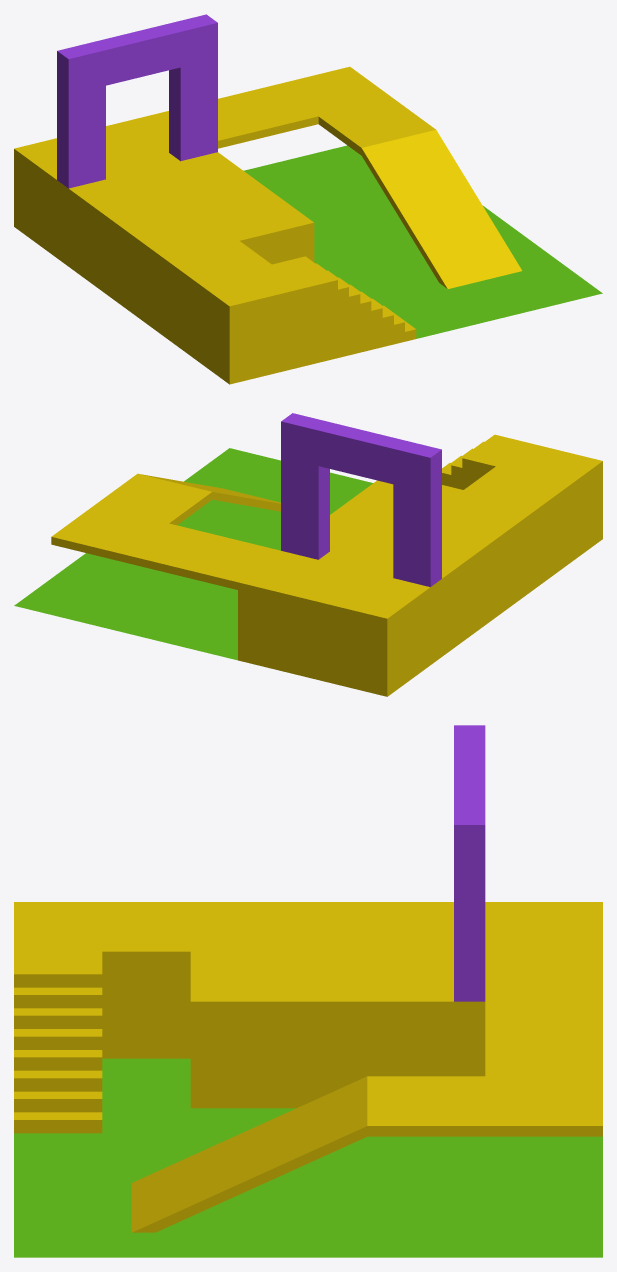
File: Level.glb
3 views of the same model, one above another, from view 1: azimuth 30°, elevation 25°; view 2: azimuth 150°, elevation 25°; view 3: azimuth 270°, elevation 25° (orthographic). The views are drawn at different scales.
Visible parts, largest first — view 1: upperFloor, ground, arch; view 2: upperFloor, ground, arch; view 3: upperFloor, ground, arch.
Part boxes in pixels (x1,y1,x2,y2): upperFloor: (14,66,522,384); ground: (243,145,602,338); arch: (57,14,217,188); upperFloor: (51,434,602,696); ground: (14,448,373,660); arch: (281,413,441,586); upperFloor: (14,902,602,1232); ground: (14,1058,602,1257); arch: (454,725,485,1001).
Size of the model in its own units: 10 by 5.51 by 10.
